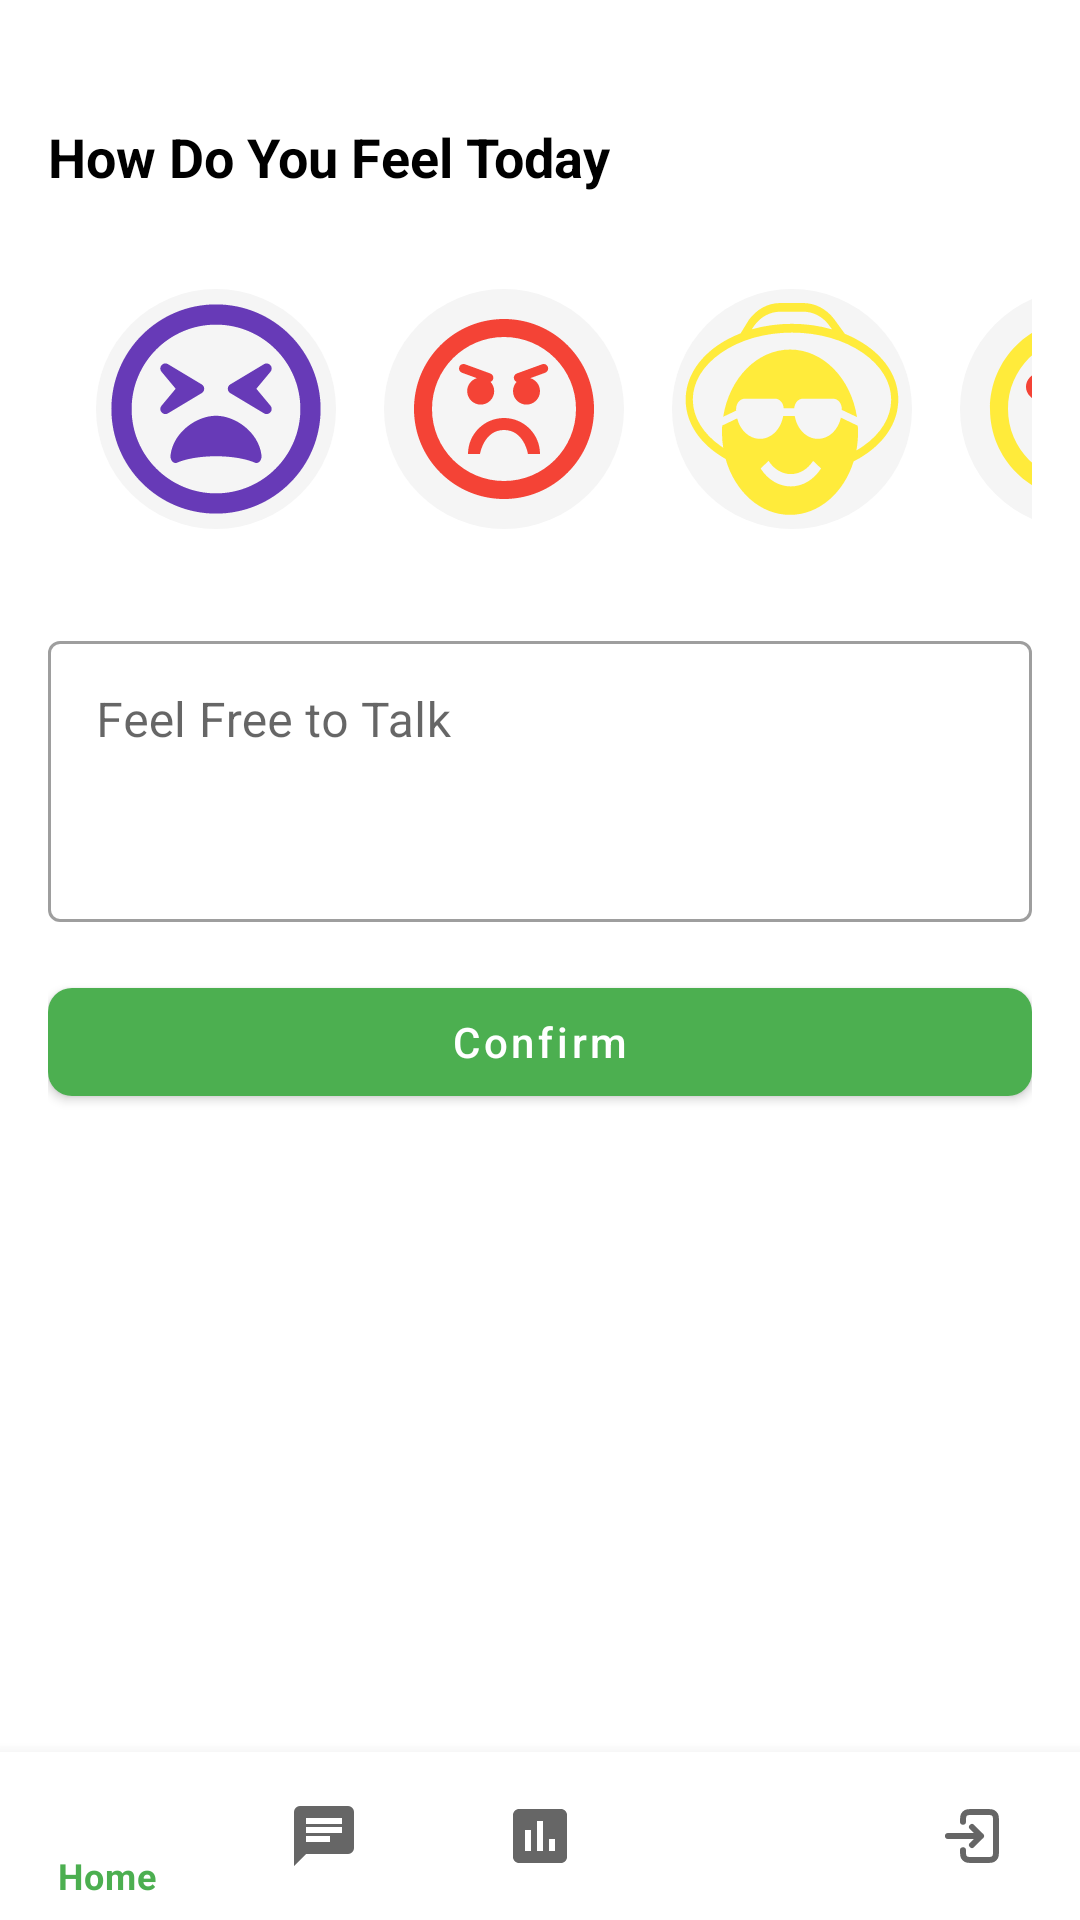

Screen size 1080x1920. Icon name, then its box in pixels as [x1=x1, y1=y1, x2=x2, y2=y2]:
mood bad: [x1=384, y1=289, x2=624, y2=529]
mood very bad: [x1=96, y1=289, x2=336, y2=529]
